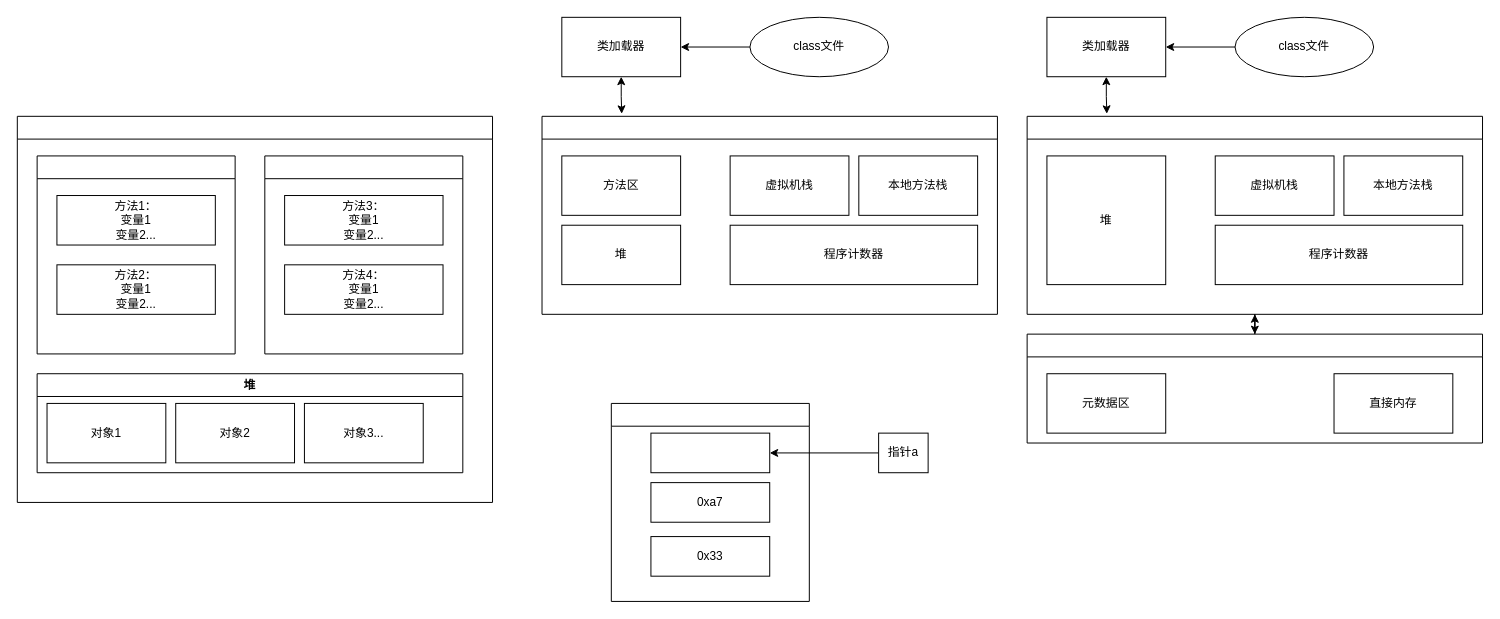
Image size: 1500x619. Some labels were removed from this diagram. Here are the shapes that lost their labels. From the top down, the box of each, then its label:
(541, 115, 997, 314): JVM（Java 8-）
(1026, 115, 1483, 314): JVM（Java 8，8+）
(36, 155, 235, 354): 栈1
(264, 155, 463, 354): 栈2
(16, 115, 493, 502): Java内存模型
(1026, 333, 1483, 443): 本地内存
(650, 432, 770, 473): 0xa0
(610, 402, 809, 601): 内存
